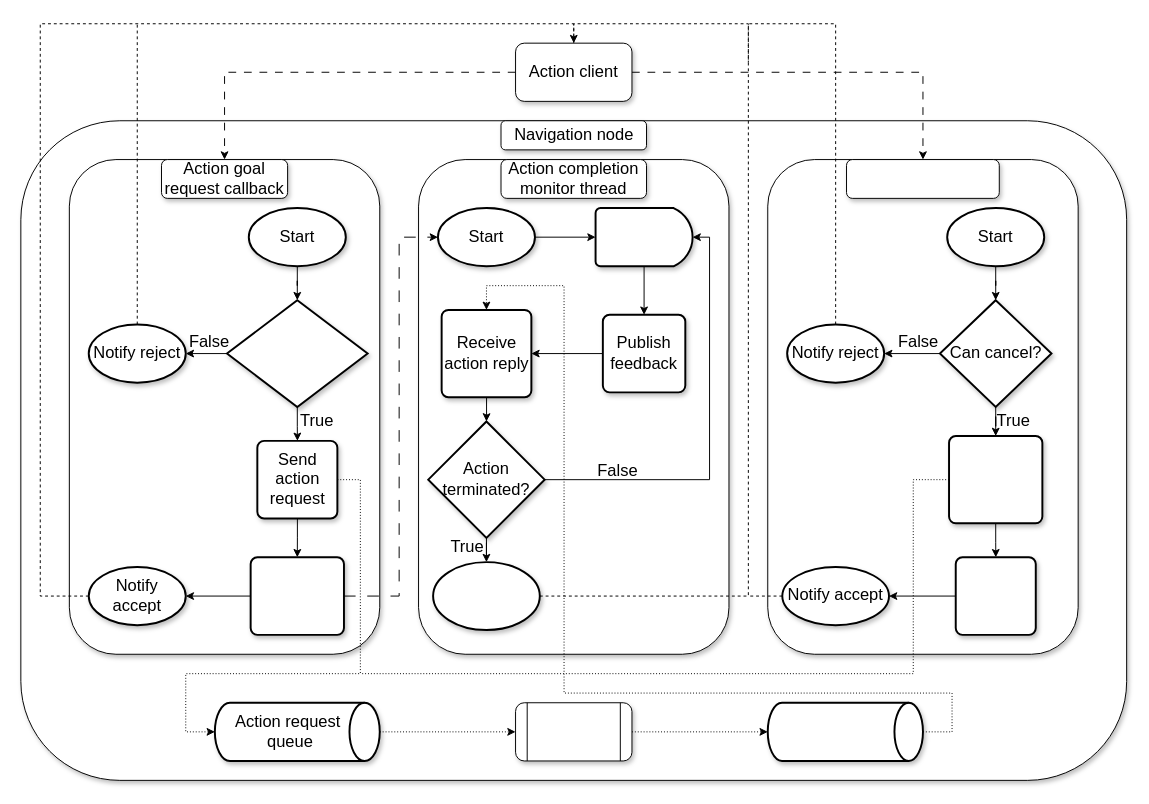
This 1149x804 diagram has some shape labels left out. The shapes that lost their labels are listed below. From the top down, each one's centre as x and y in pixels, then its label:
pixel 923 180: Action cancellation request callback
pixel 644 238: Sleep
pixel 298 354: Preconditions satisfied?
pixel 996 481: Send cancellation request
pixel 297 597: Start action completion monitor thread
pixel 487 597: Notify action terminated
pixel 996 597: Notify action cancelled
pixel 574 733: Main state machine
pixel 845 732: Action reply queue
